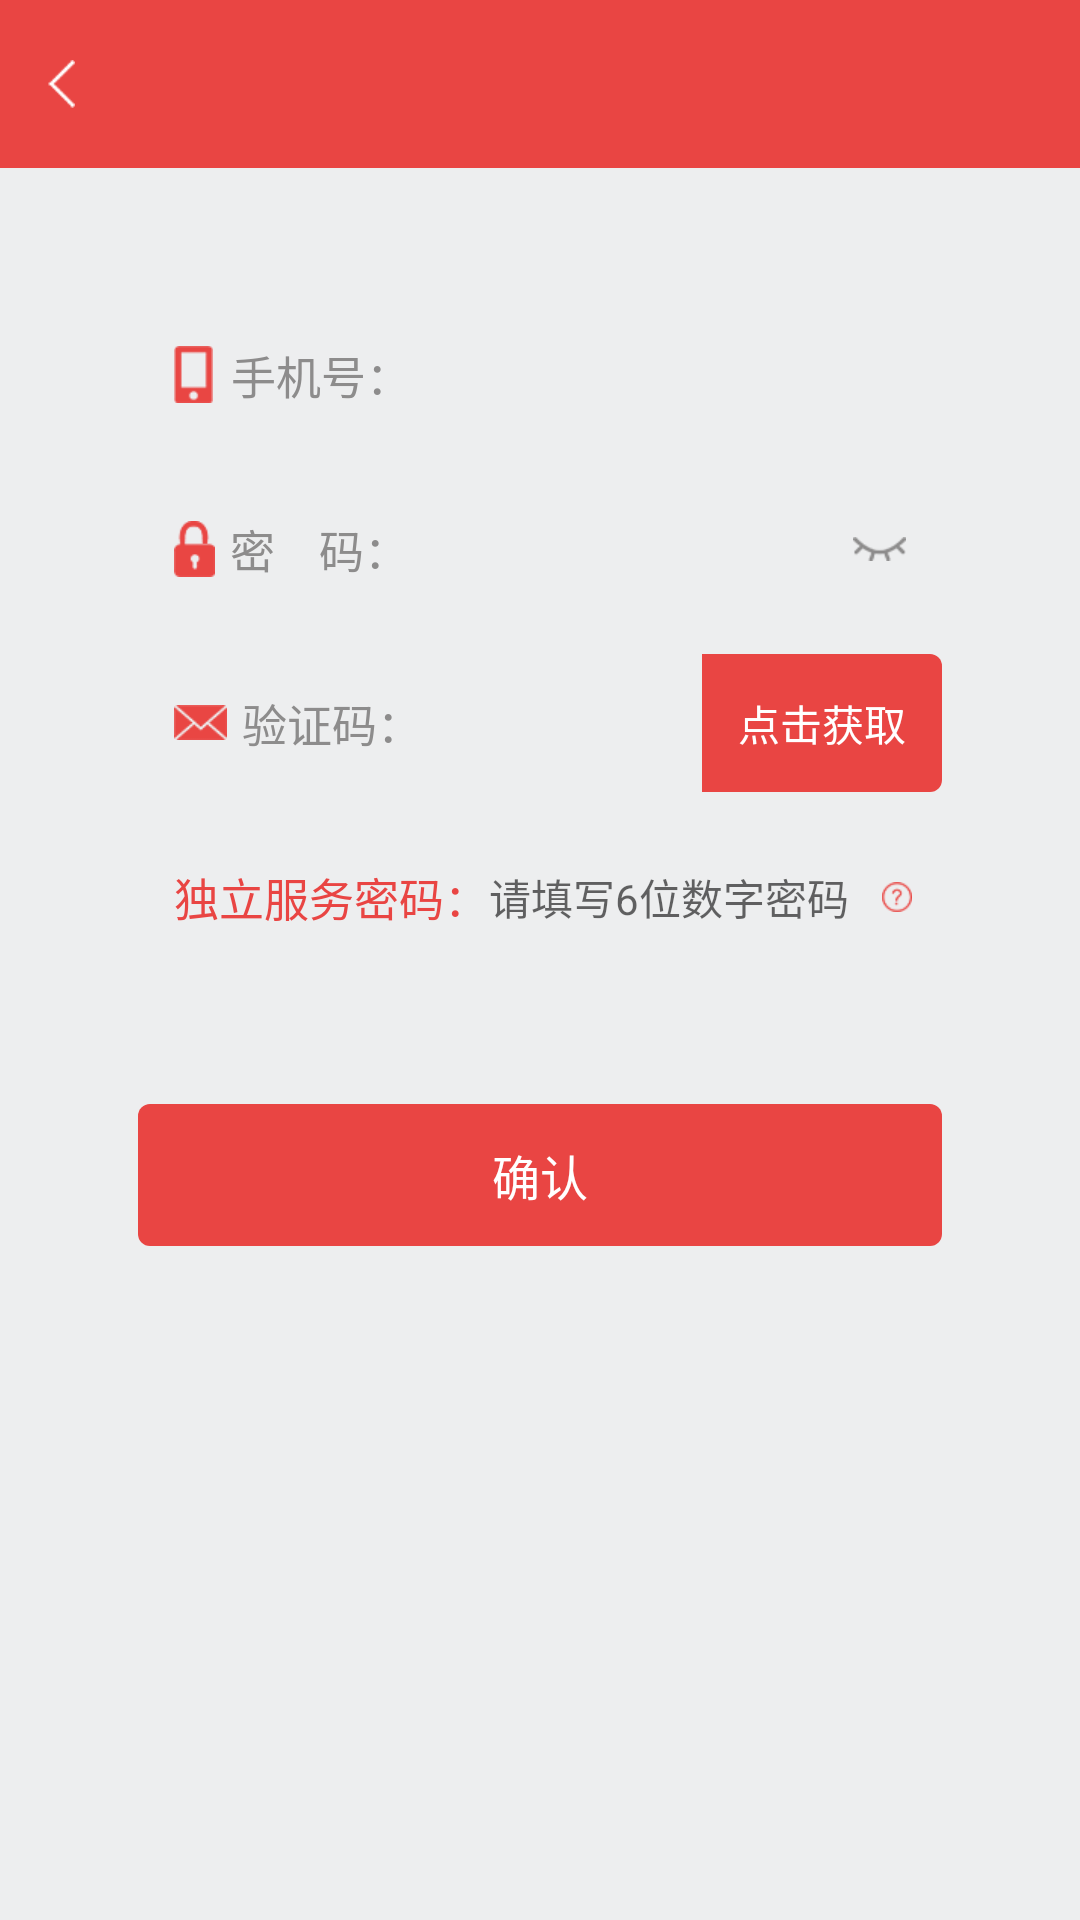

Where to tap for icons on this 1080*1920 app screen, as point (x, y):
back: point (61, 84)
wenhao: point (897, 897)
yanjingbi: point (879, 549)
